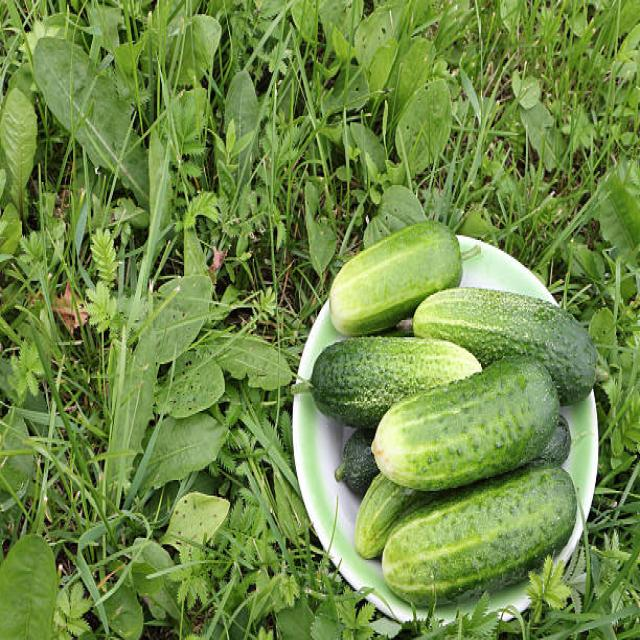cucumber: (311, 219, 599, 613)
